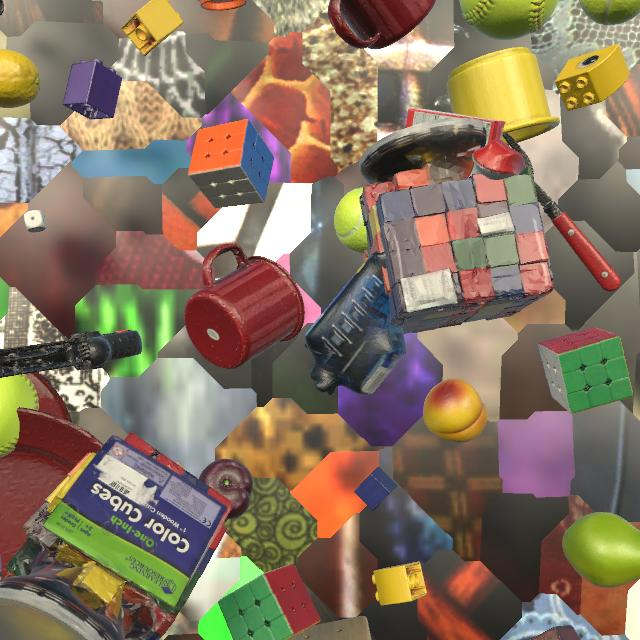ycb_009_gelatin_box: (406, 109, 506, 146)
ycb_014_lemon: (0, 49, 41, 108)
ycb_015_peach: (423, 378, 488, 443)
ycb_016_pear: (563, 512, 640, 588)
ycb_018_plum: (199, 459, 253, 520)
